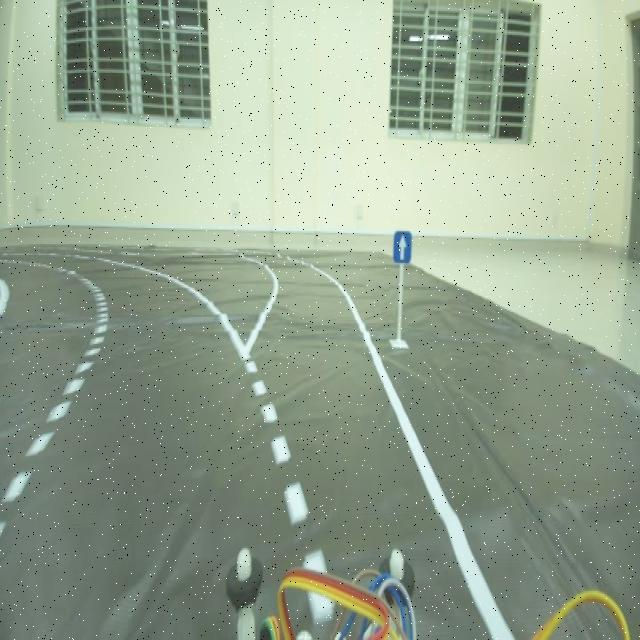onewayroad: (386, 222, 418, 271)
